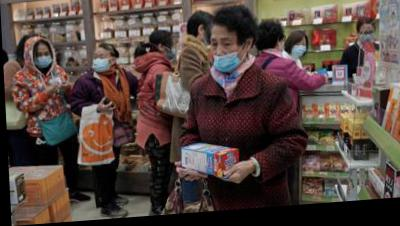OK: (33, 49, 52, 70), (92, 54, 110, 76), (359, 34, 376, 51), (292, 45, 307, 63), (165, 45, 176, 64)
WRONG: (210, 37, 242, 78)
